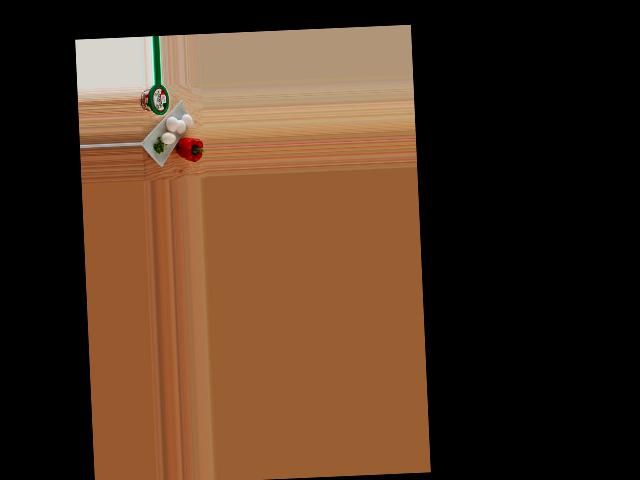bell_pepper: (176, 132, 203, 164)
